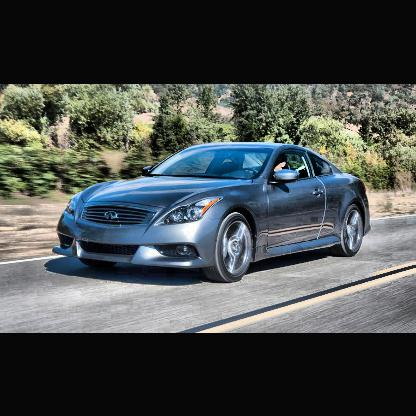Infiniti G Coupe IPL 2012: (54, 143, 371, 283)
